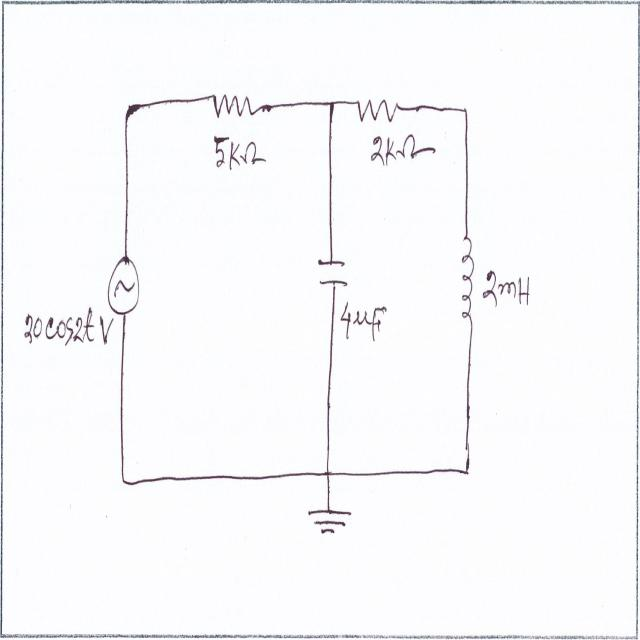ac_current: (105, 251, 144, 321)
capacitor: (314, 249, 352, 294)
ground: (305, 496, 353, 548)
inductor: (456, 232, 478, 333)
resistor: (211, 80, 265, 130), (353, 86, 402, 132)
